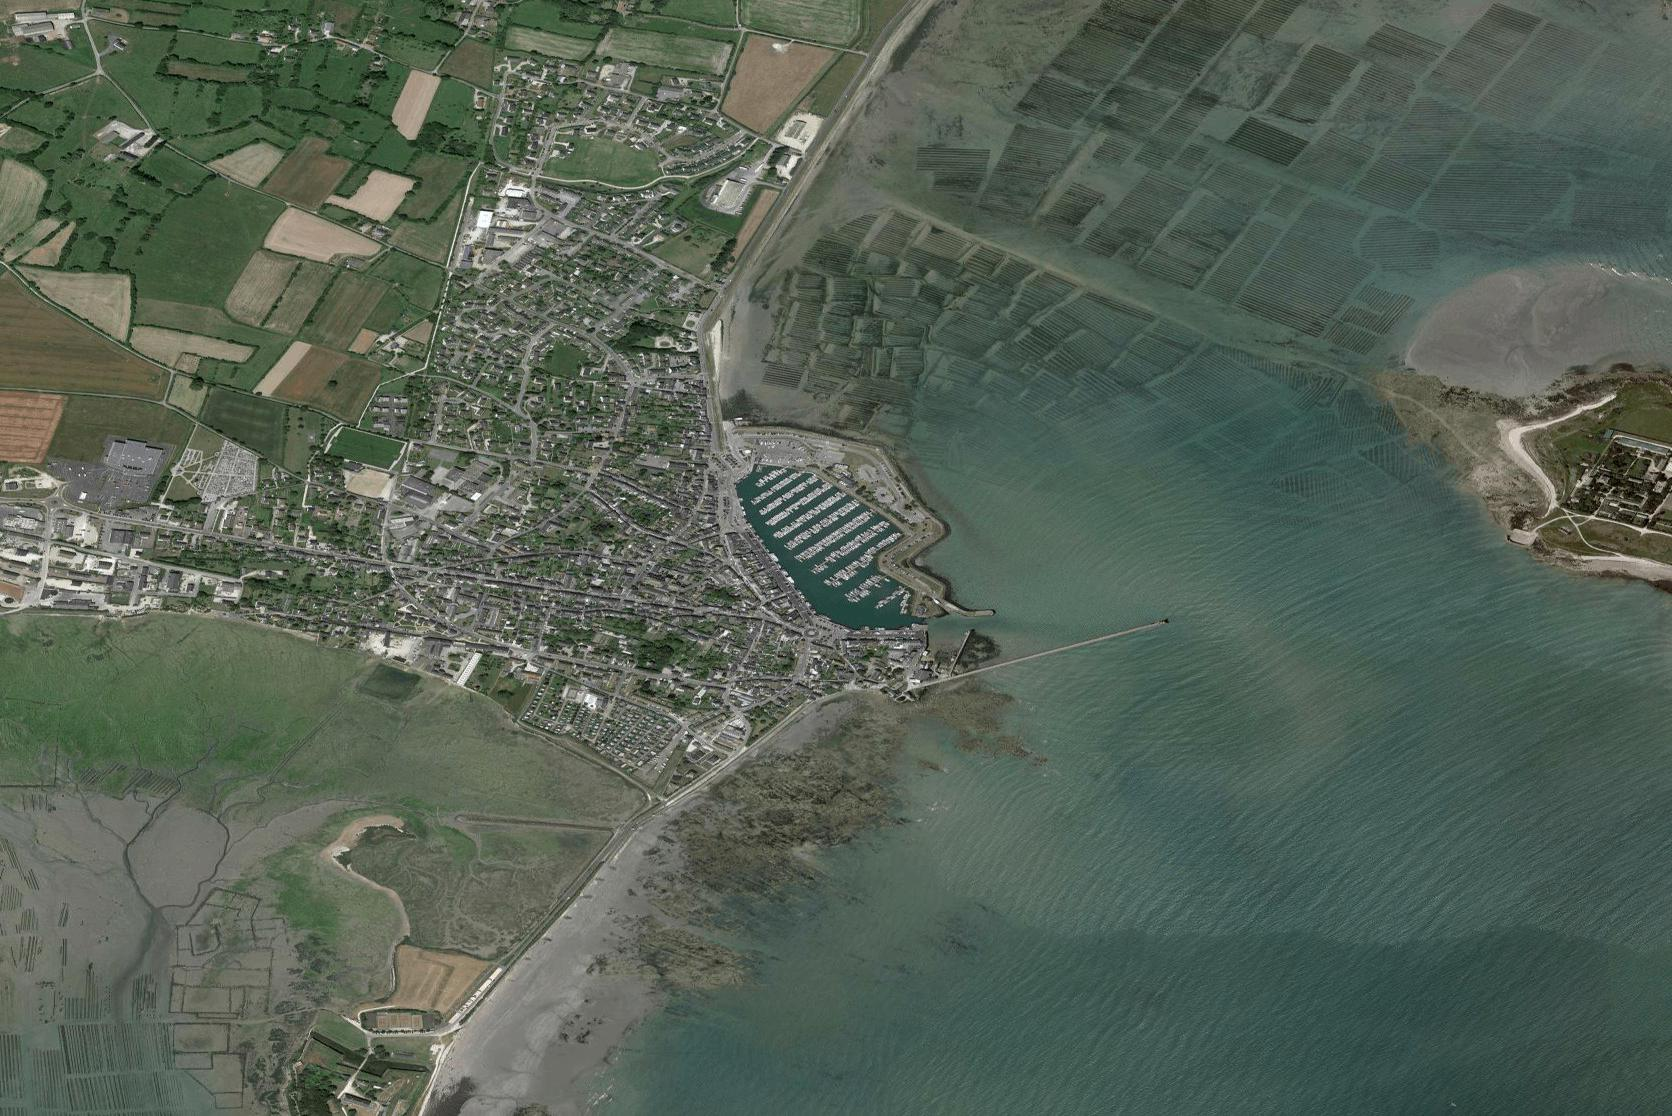harbor: (717, 435, 1109, 725)
